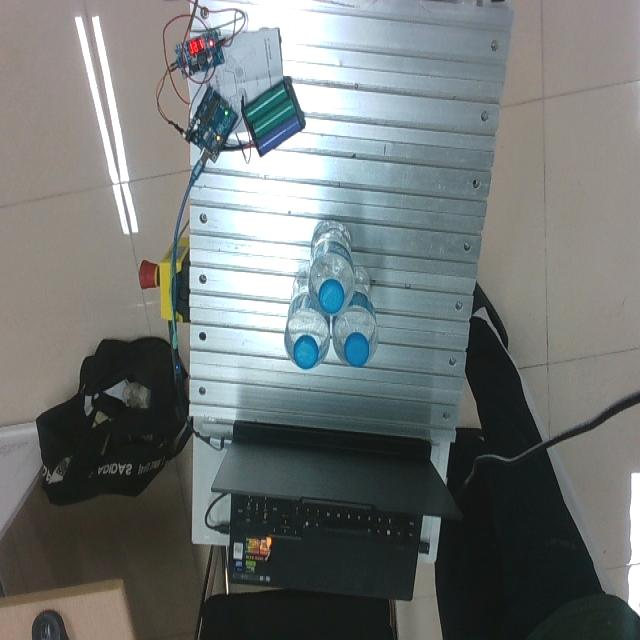lavie: (331, 267, 379, 368), (307, 221, 356, 319), (285, 269, 331, 371)
